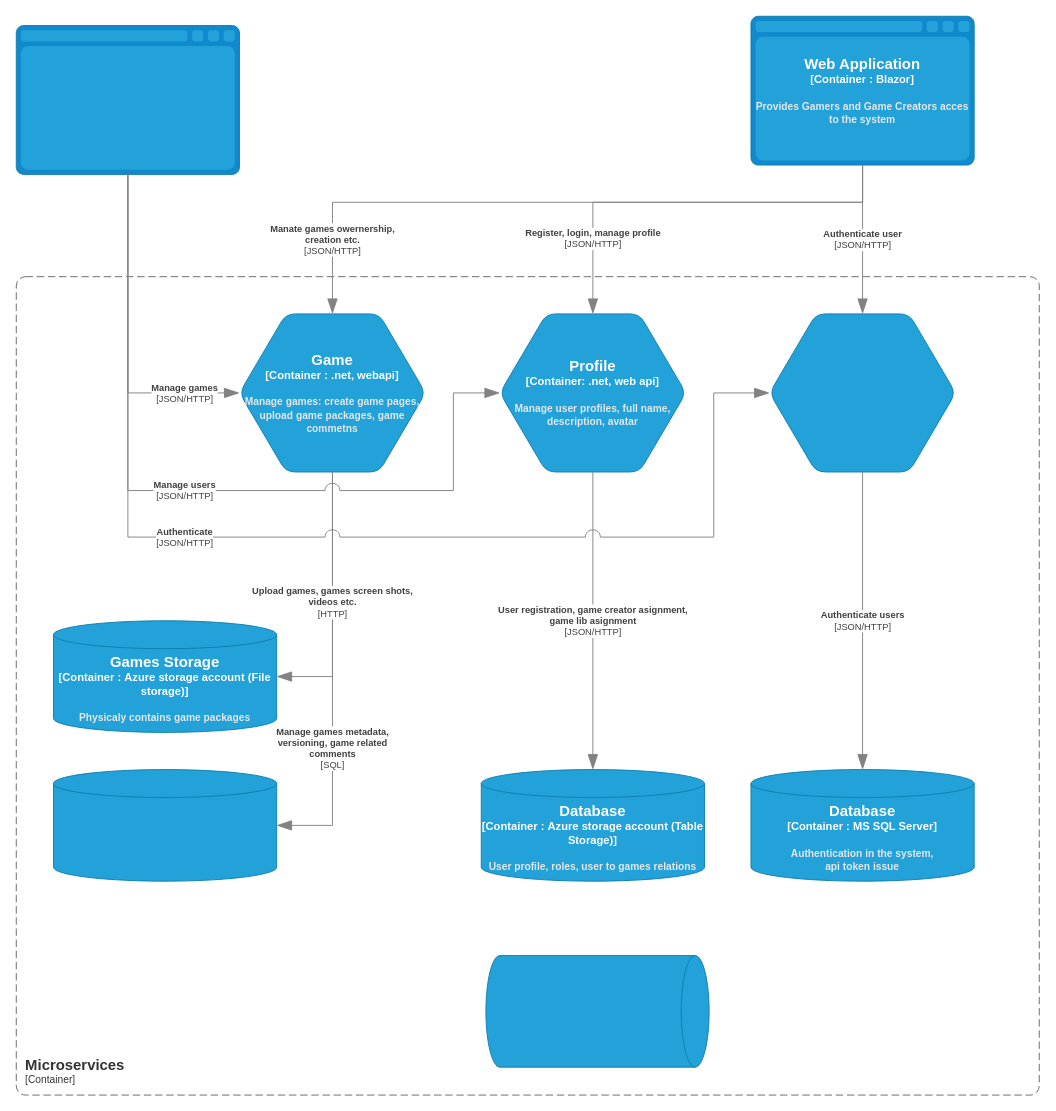
The diagram is 1056 pixels wide and 1111 high, and some of its shapes have lost their labels. Here are the shapes that lost their labels. From the top down, the centre of each, then its label:
At pixel 127 99: "WebAdmin [Container: Blazor] Management tool for admins".
At pixel 862 392: "Identity [Container : .net, web api] User authentication".
At pixel 165 825: "Database [Container : MS SQL Server] Games metadata, versioning etc.".
At pixel 597 1011: "Message Bus [Container : Azure Service Bus] Glitch IO internall messaging".
